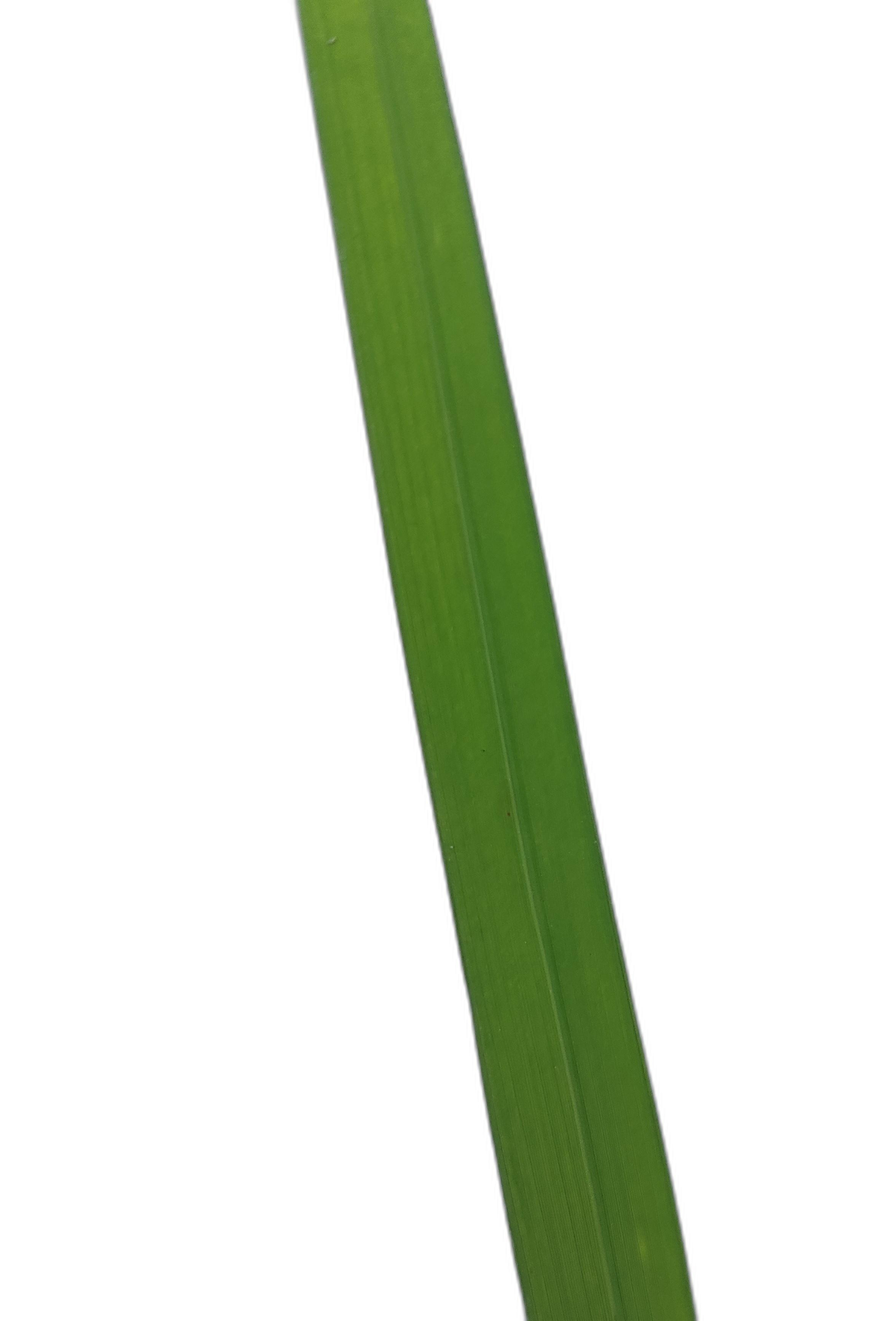Healthy: (299, 0, 694, 1320)
